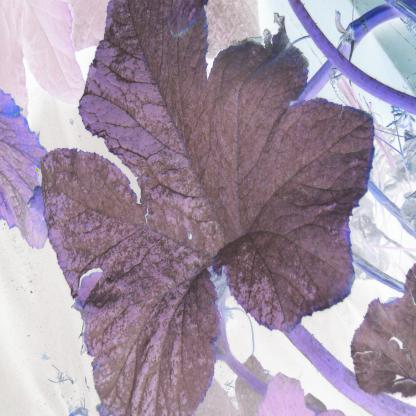Squash Powdery mildew leaf: (38, 5, 387, 416)
